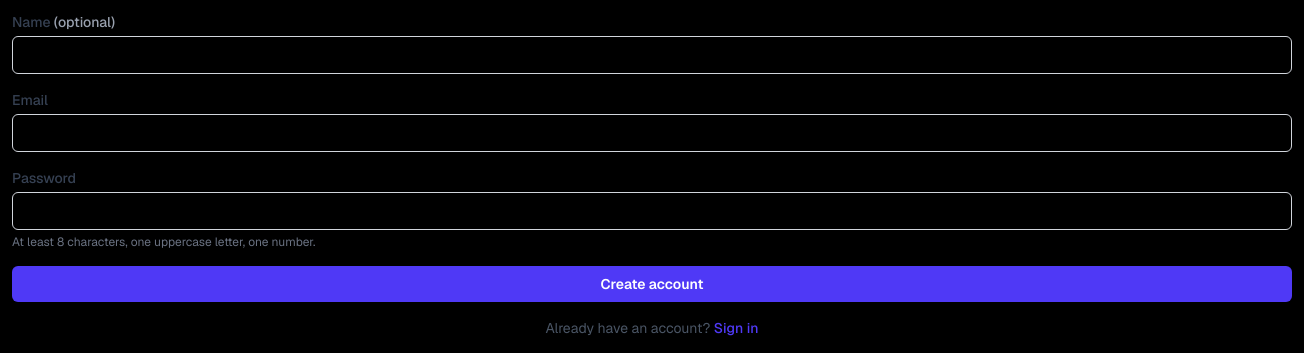
Scenario: RegisterForm › shows success message after 201 response
This screenshot has width=1304, height=353.
Type "new@example.com" into the field labelled "Email" at point(652, 133), box [12, 114, 1292, 152]
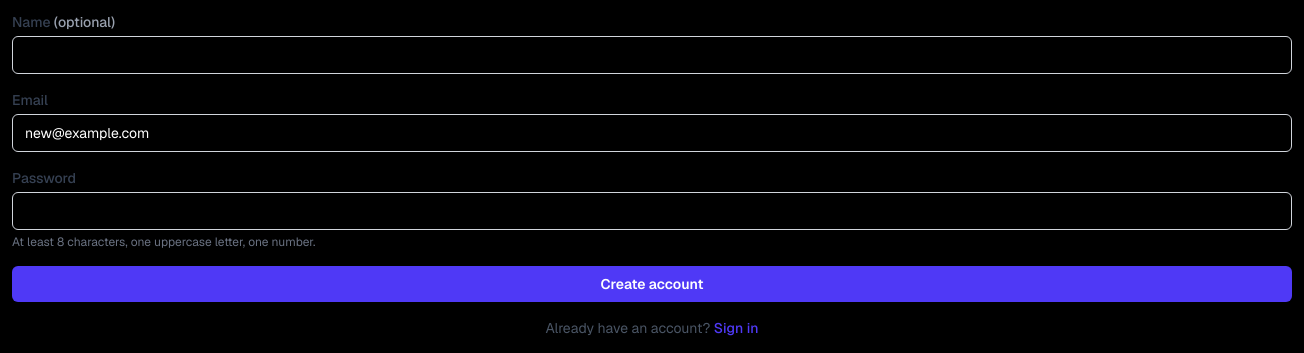
Type "SecurePass1" into the password field labelled "Password" at point(652, 211), box [12, 192, 1292, 230]
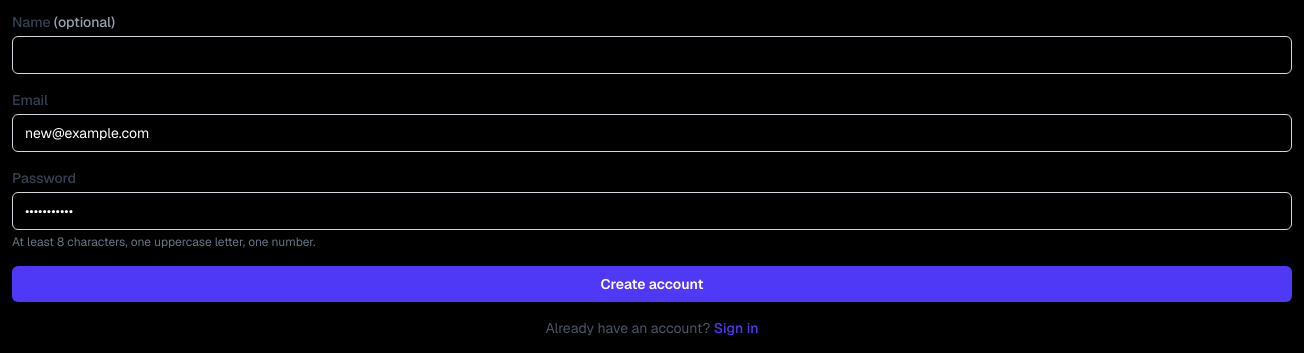
Click the button "Create account" at point(652, 284), box [12, 266, 1292, 302]
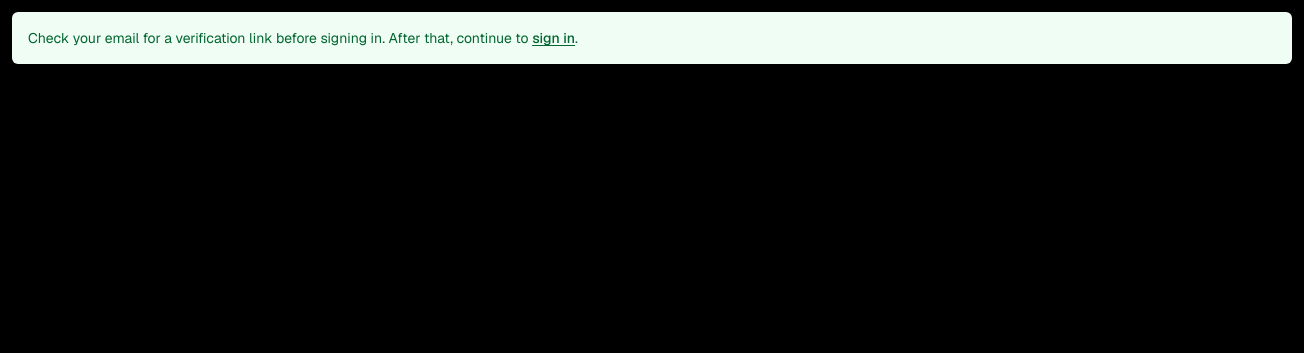
Expected: the message shows "Check your email", [28, 29, 529, 47]
